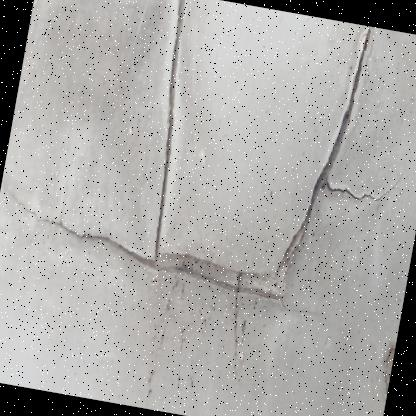Crack: (137, 0, 415, 365), (0, 0, 210, 288), (360, 294, 403, 415)
